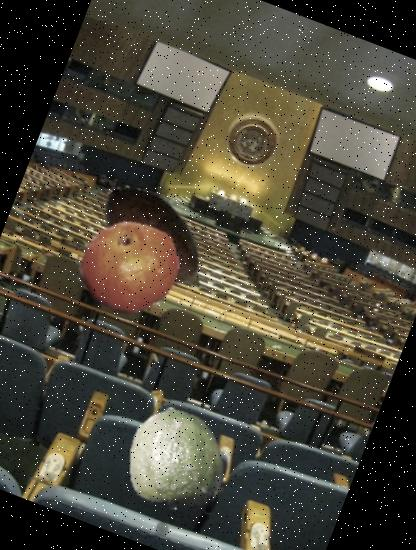Clementine: (60, 201, 194, 336)
Limes: (110, 393, 243, 526)
Nut: (72, 156, 240, 324)
